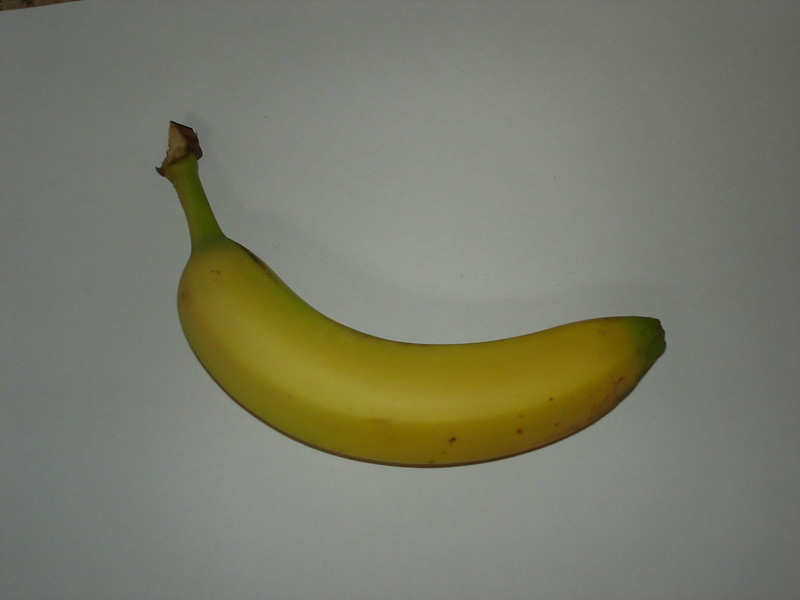banana: (136, 152, 668, 479)
